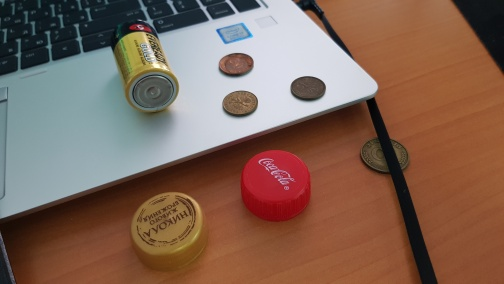coin: (359, 137, 410, 175), (222, 90, 259, 117), (289, 76, 327, 102), (218, 52, 254, 77)
